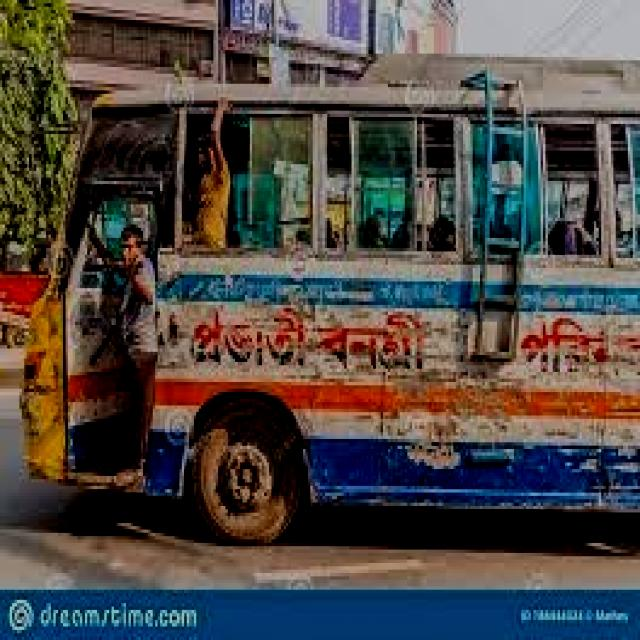bus: (23, 50, 640, 558)
